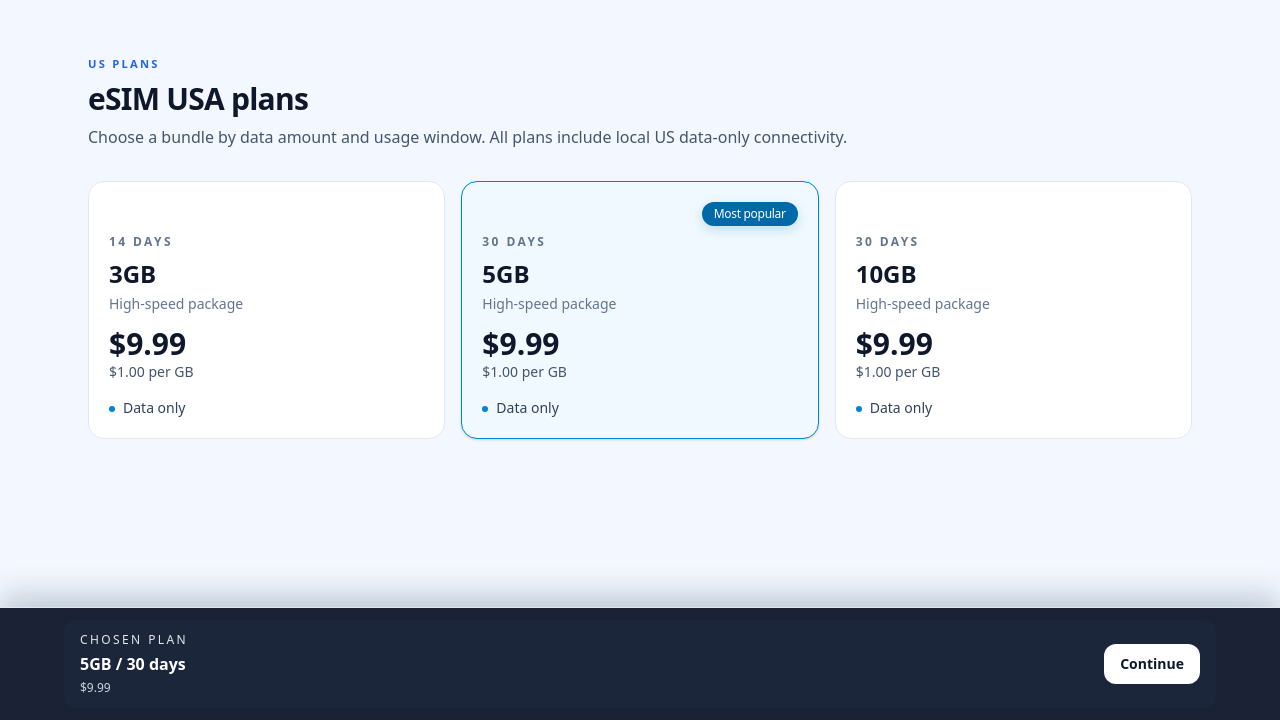
Test: PlansSection › renders selected plan summary and updates on card selection
Check: the text "Chosen plan" is shown, box [80, 632, 188, 648]
Check: the text "5GB / 30 days" is shown, box [80, 652, 188, 676]
Step 1. Click the button "14 days 3GB High-speed package $9.99 $1.00 per GB Data only" → [141, 241], box [88, 181, 445, 439]
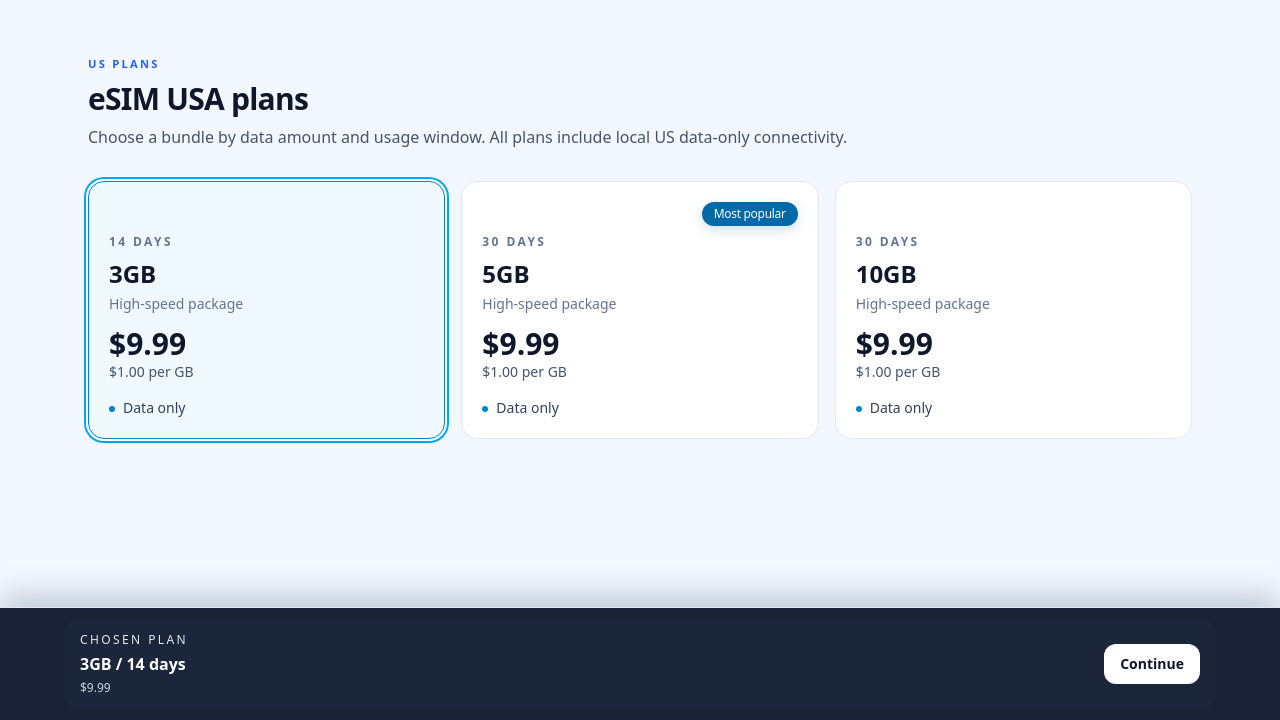
Check: the text "3GB / 14 days" is shown, box [80, 652, 188, 676]
Step 2. Press Enter in the button "30 days 10GB High-speed package $9.99 $1.00 per GB Data only", box [835, 181, 1192, 439]
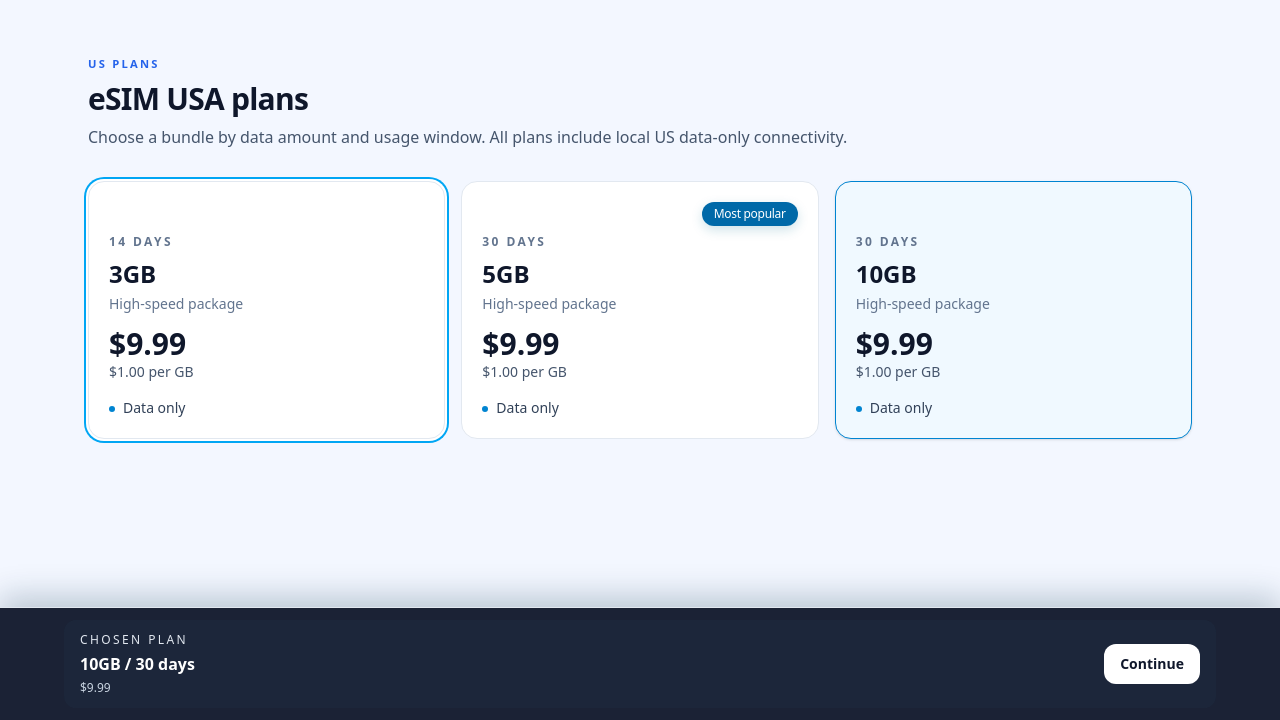
Check: the button "Continue" is enabled, box [1104, 644, 1200, 684]
Check: the text "10GB / 30 days" is shown, box [80, 652, 195, 676]
